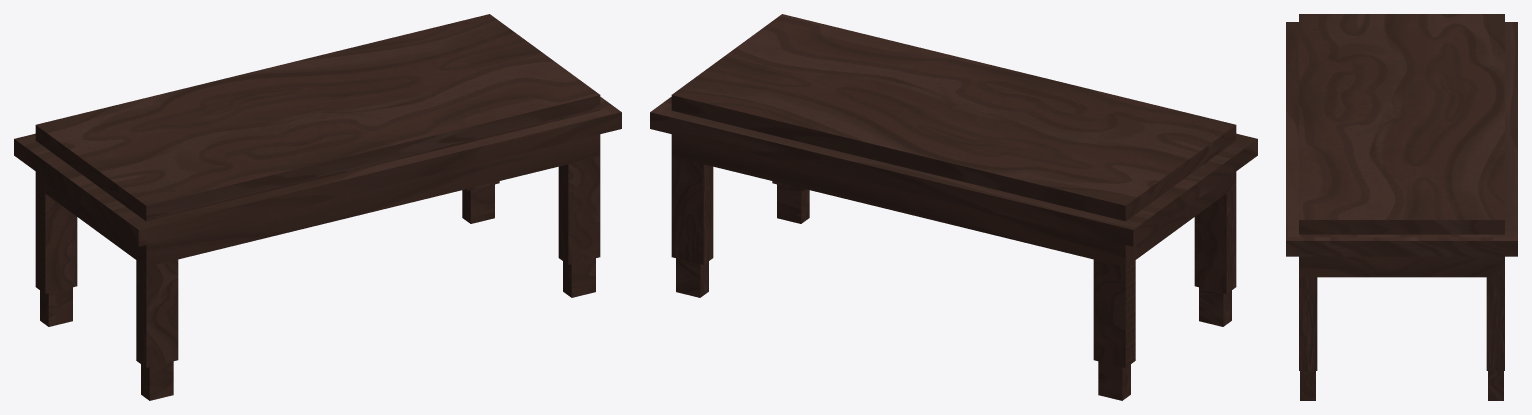
The model's file is kitaplığın yanı masası .fbx.
The picture shows the model from 3 angles, left to right: view 1: azimuth 30°, elevation 25°; view 2: azimuth 150°, elevation 25°; view 3: azimuth 270°, elevation 25°; orthographic projection. The views are drawn at different scales.
Visible parts, largest first — view 1: Cube.064; view 2: Cube.064; view 3: Cube.064.
Part boxes in pixels (left/top/right/bottom): Cube.064: left=14, top=14, right=621, bottom=400; Cube.064: left=650, top=14, right=1257, bottom=400; Cube.064: left=1286, top=14, right=1517, bottom=400.
Bounding box in the file's own units: 334 × 130 × 149.
1 material, 1 textured.
